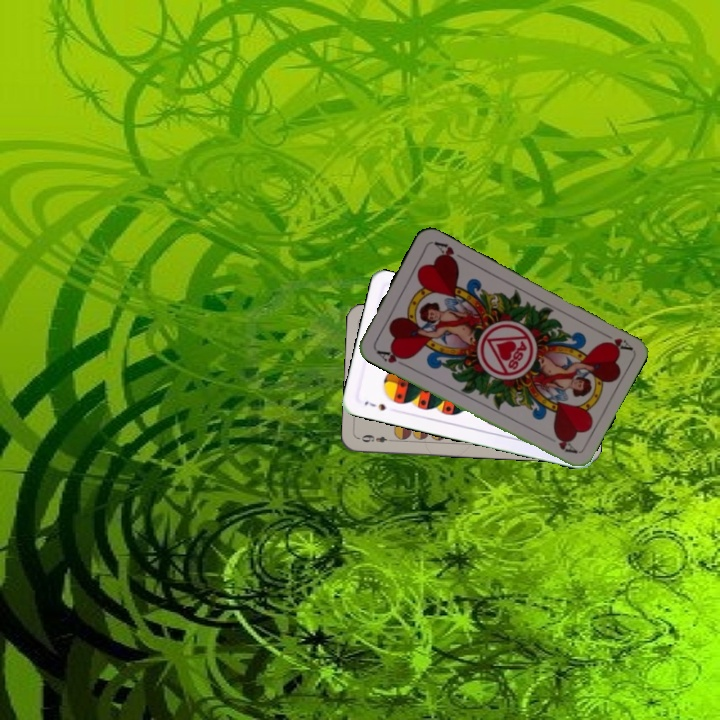E9: (358, 431, 396, 445)
HA: (596, 327, 634, 354), (372, 345, 411, 370)
S7: (360, 397, 388, 413)
